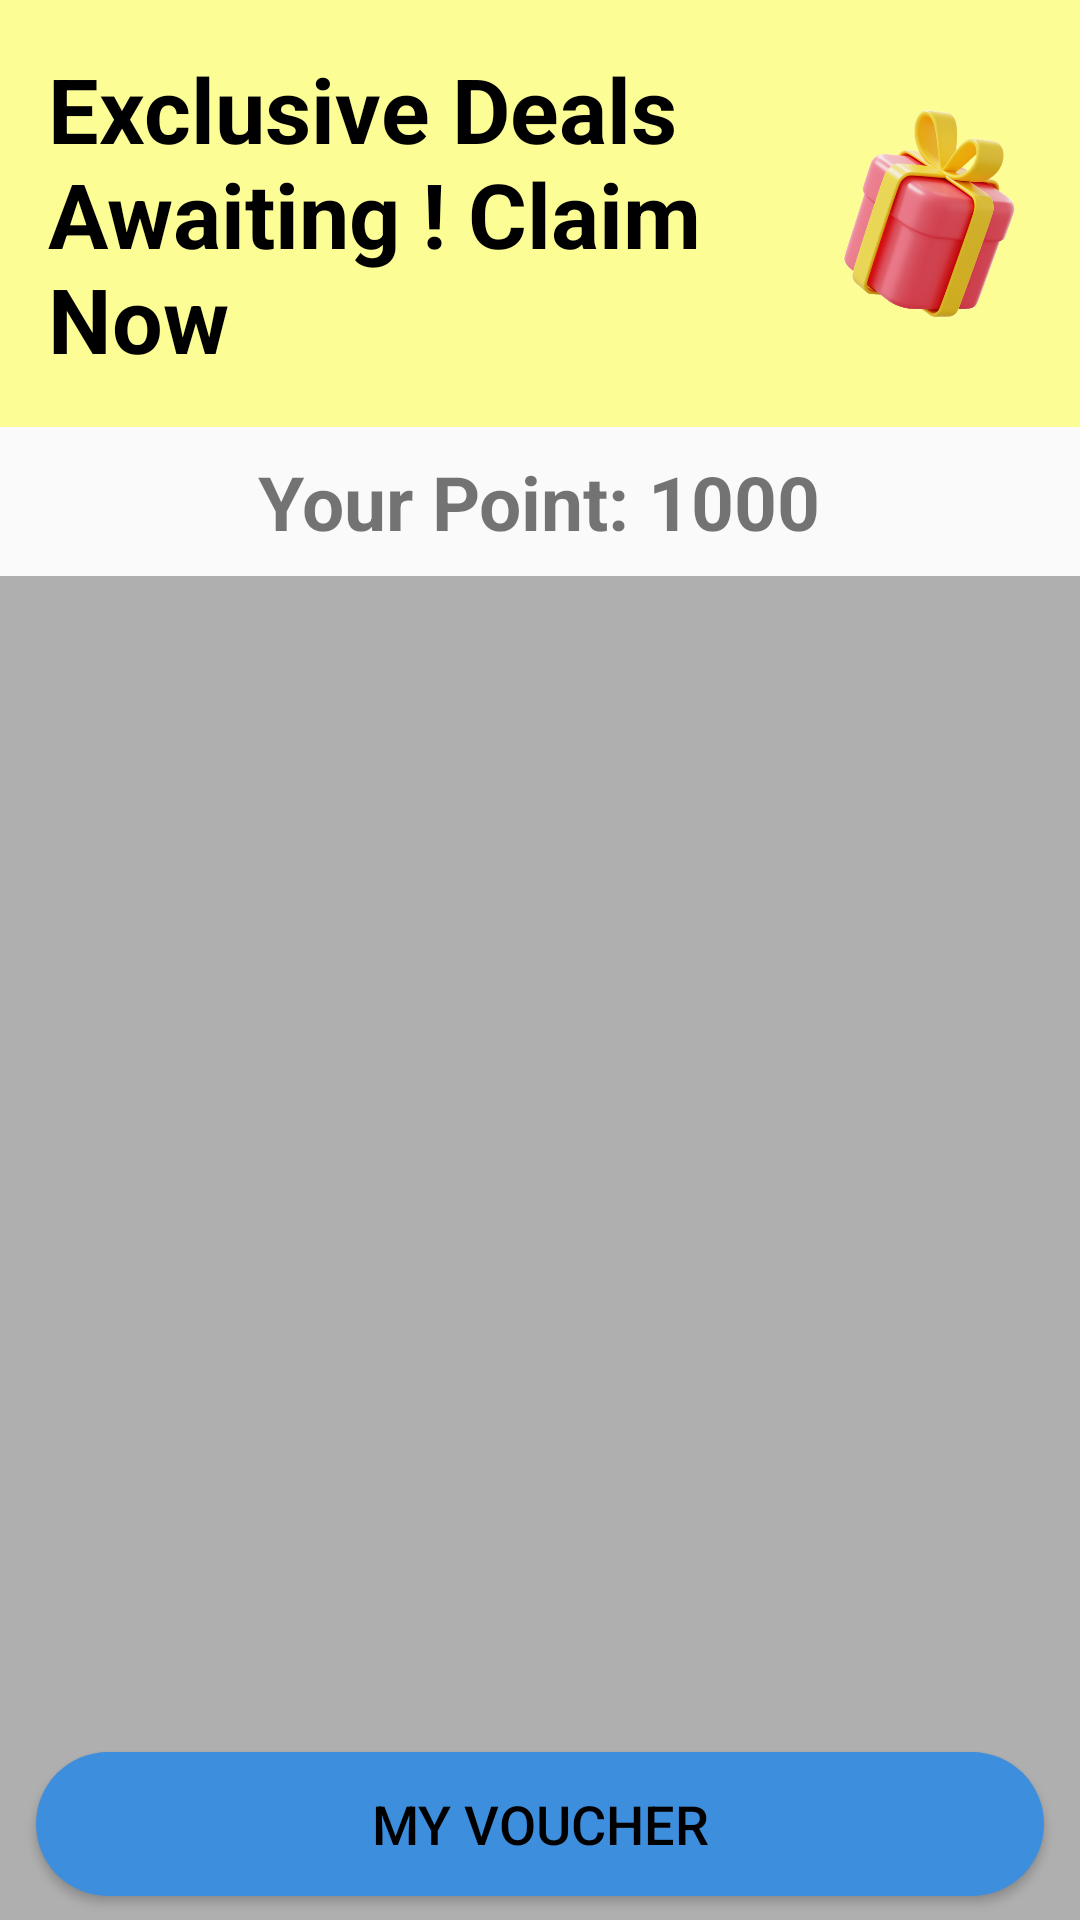

Point at icon controls on the screen. Image size 1080*1920, points as (x,y).
gift 3d: (929,213)
